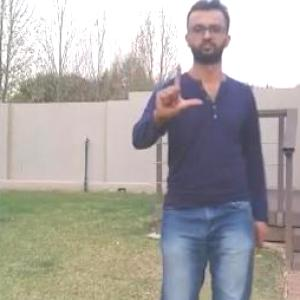land_hand: (150, 57, 204, 122)
